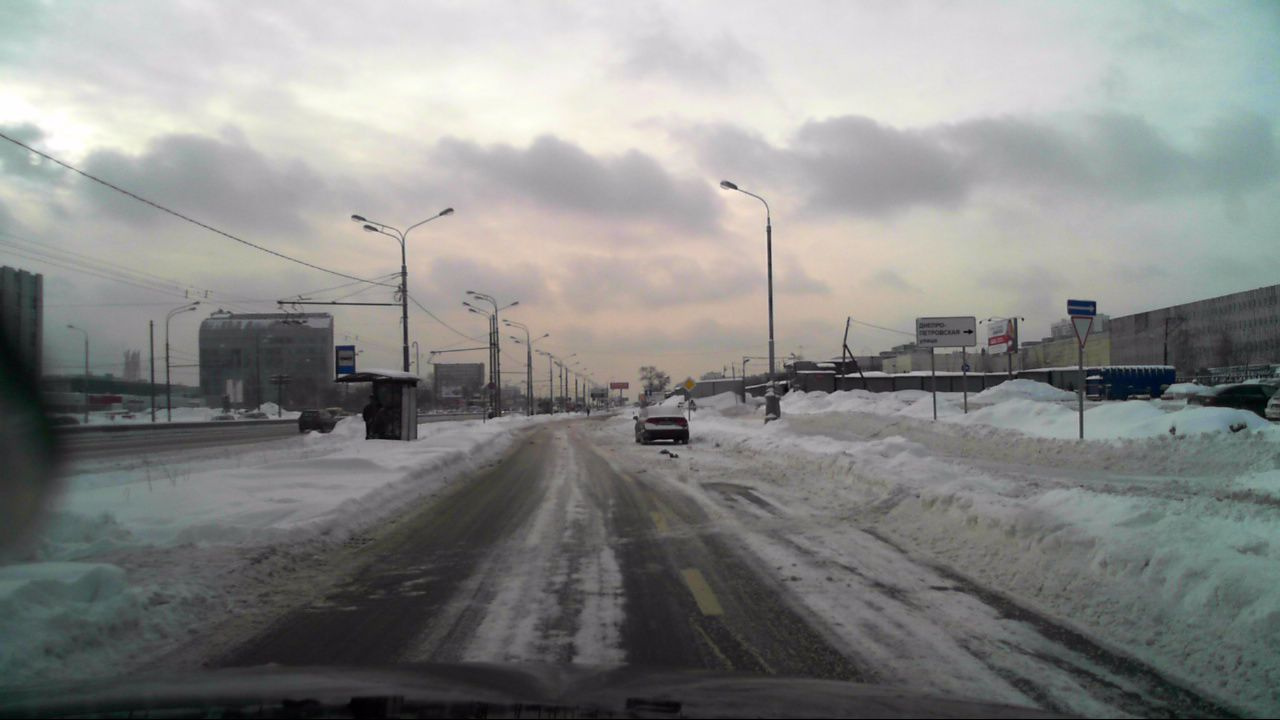One-Way Traffic: (1067, 299, 1097, 316)
